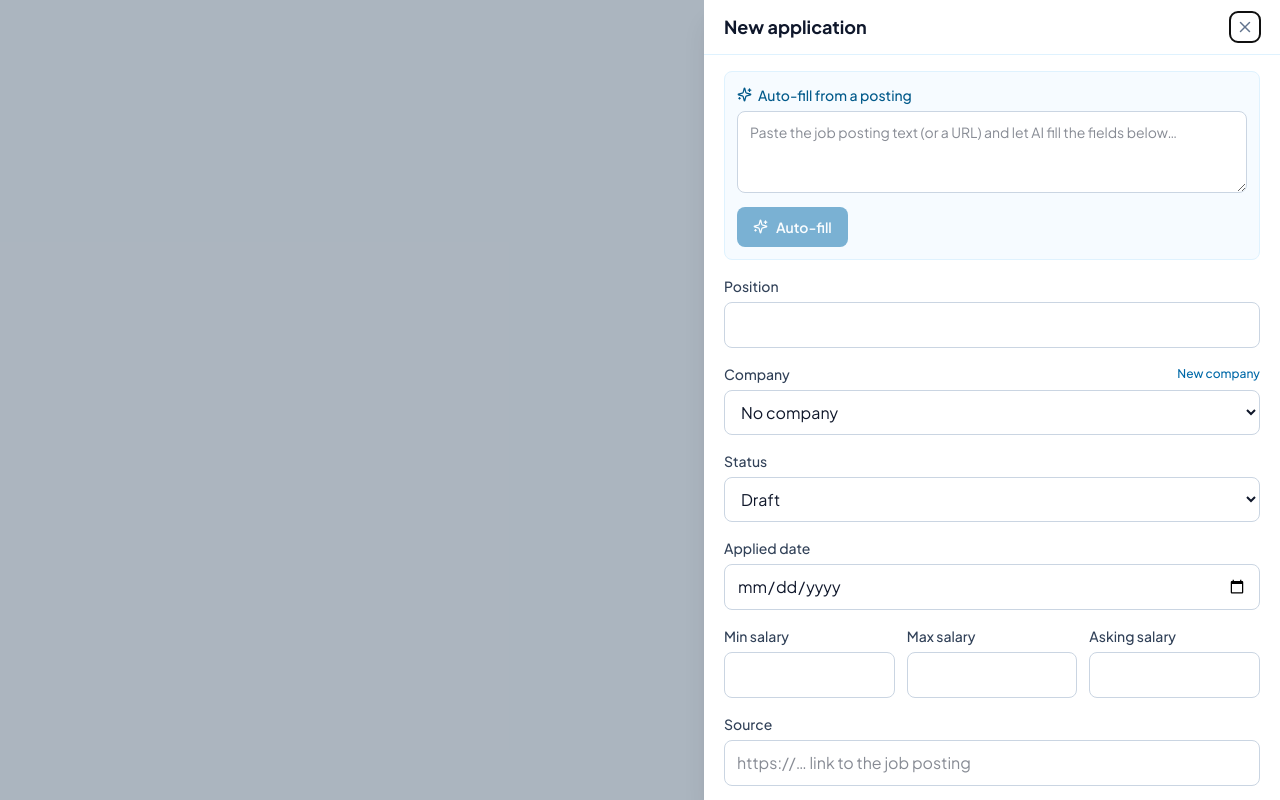
Test: auto-fills the new-application form from a pasted posting
The image size is (1280, 800).
Type "Staff Engineer at Acme — pasted posting body" into the text box labelled "job posting". click: (992, 152)
box: [737, 110, 1247, 192]
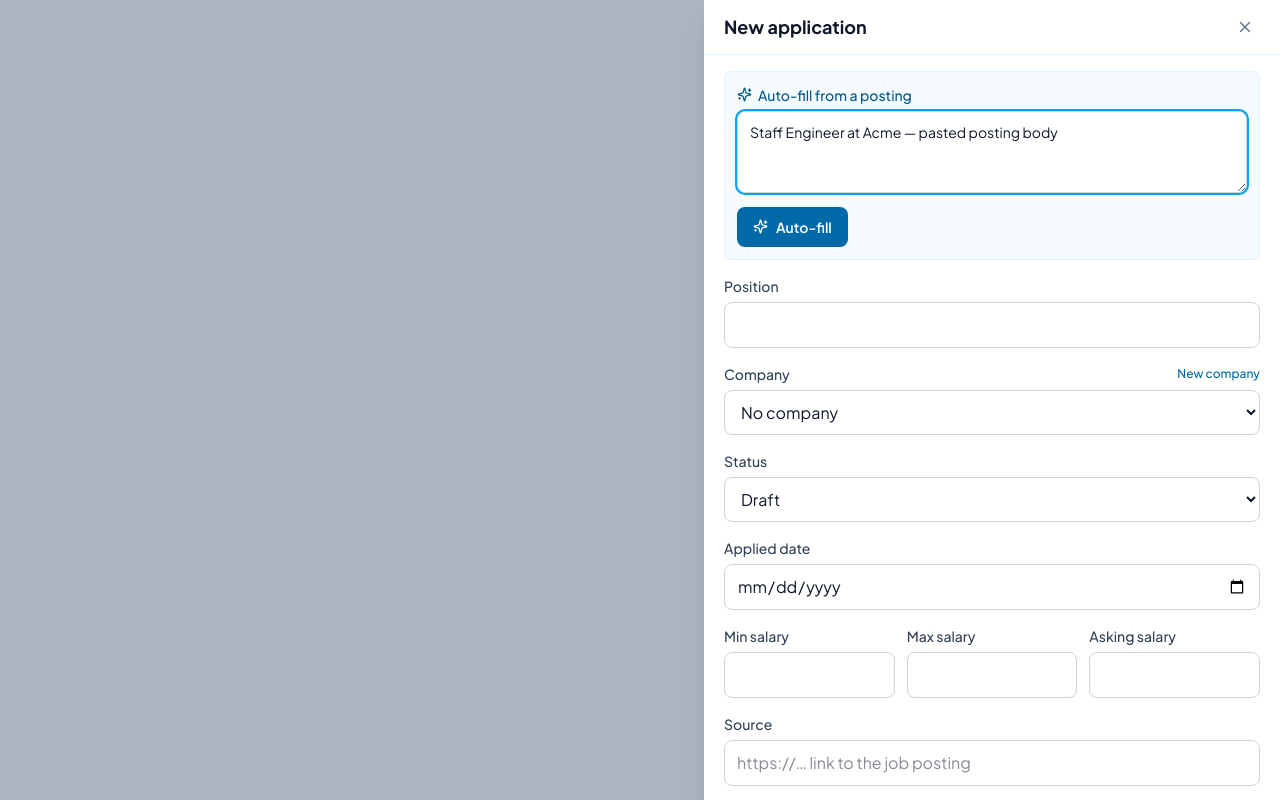
Click the button "Auto-fill". click: (792, 226)
box: [737, 206, 848, 246]
(page scrolled)
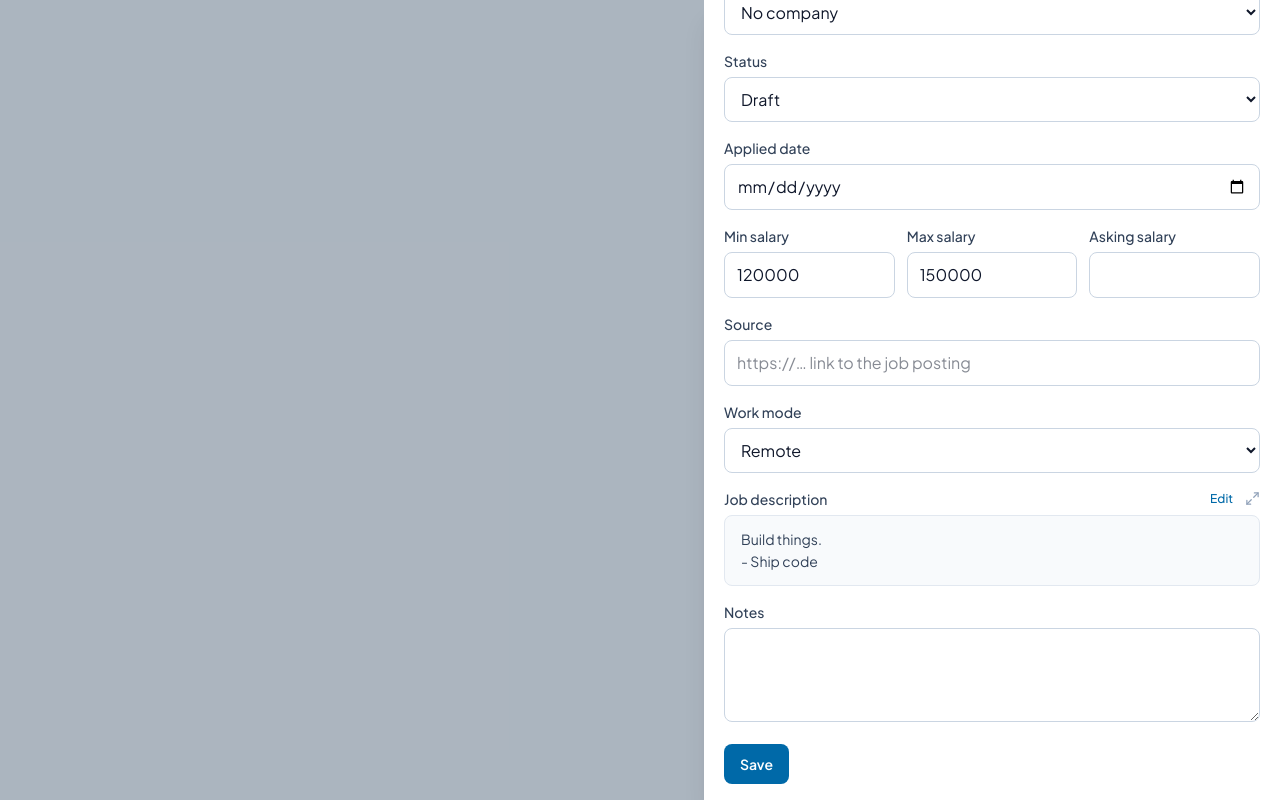
Now the number field labelled "Min salary" holds "120000", box [724, 252, 895, 298]
Now the number field labelled "Max salary" holds "150000", box [907, 252, 1077, 298]
Now the dropdown labelled "Work mode" shows "Remote", box [724, 428, 1260, 472]
